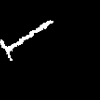double_crochet: (0, 20, 52, 60)
